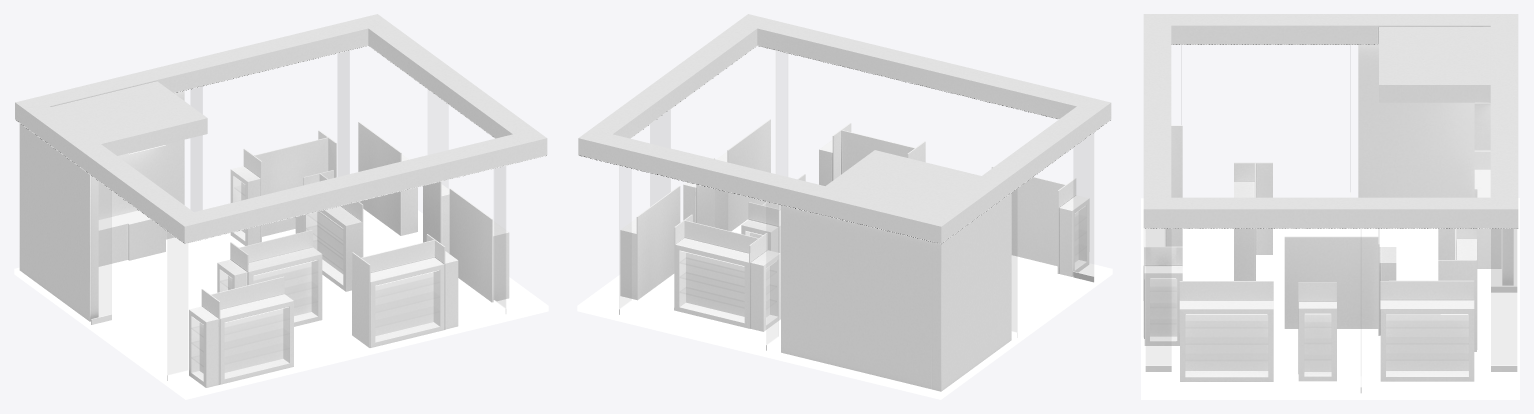
Rendered from shop.glb.
The picture shows the model from 3 angles, left to right: view 1: azimuth 30°, elevation 25°; view 2: azimuth 150°, elevation 25°; view 3: azimuth 270°, elevation 25°; orthographic projection. The views are drawn at different scales.
Parts seen in each view (by area): view 1: PLASTIK_W_PLASTIK_W_0, Rectangle009, glass_01 - Default_0, Object002_PLASTIK_W_0; view 2: PLASTIK_W_PLASTIK_W_0, Rectangle009, glass_01 - Default_0, Object002_PLASTIK_W_0; view 3: PLASTIK_W_PLASTIK_W_0, Rectangle009, glass_01 - Default_0, black_met__0, Object002_PLASTIK_W_0.
Boxes of the visible parts, left/top/right/bottom form: PLASTIK_W_PLASTIK_W_0: left=15, top=14, right=547, bottom=387; Rectangle009: left=14, top=209, right=548, bottom=399; glass_01 - Default_0: left=91, top=51, right=505, bottom=374; Object002_PLASTIK_W_0: left=15, top=45, right=546, bottom=243; PLASTIK_W_PLASTIK_W_0: left=578, top=14, right=1111, bottom=391; Rectangle009: left=577, top=219, right=1112, bottom=399; glass_01 - Default_0: left=619, top=51, right=1093, bottom=343; Object002_PLASTIK_W_0: left=578, top=45, right=1110, bottom=244; PLASTIK_W_PLASTIK_W_0: left=1143, top=14, right=1518, bottom=381; Rectangle009: left=1141, top=198, right=1519, bottom=399; glass_01 - Default_0: left=1146, top=45, right=1516, bottom=364; black_met__0: left=1145, top=192, right=1517, bottom=393; Object002_PLASTIK_W_0: left=1143, top=44, right=1518, bottom=228.
Size of the model in its own units: 232 by 105 by 190.
4 materials, 1 textured.
